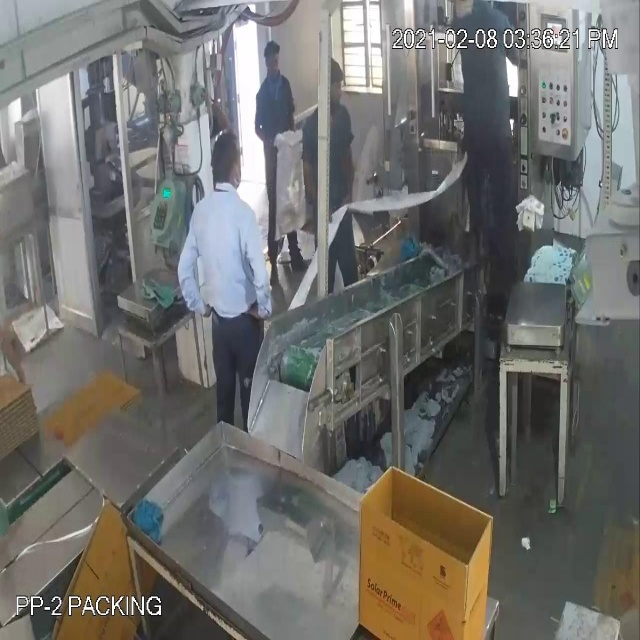Sin_guantes: (175, 226, 212, 329), (240, 234, 280, 315)
